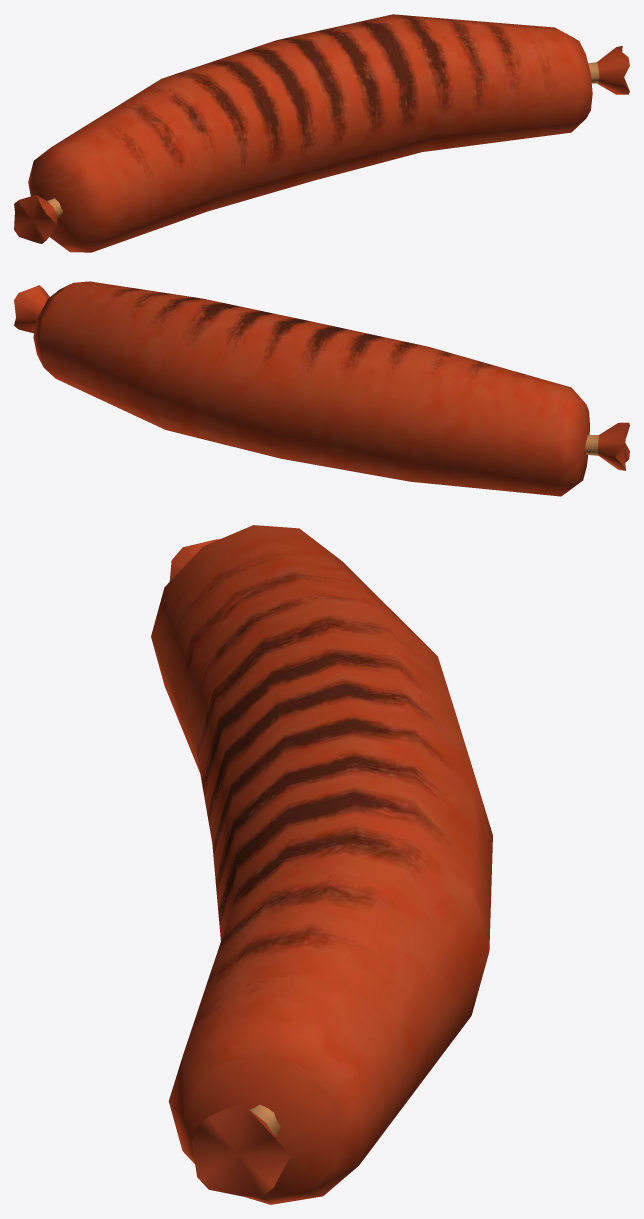
The model's file is sausage.glb.
3 views of the same model, one above another, from view 1: azimuth 30°, elevation 25°; view 2: azimuth 150°, elevation 25°; view 3: azimuth 270°, elevation 25° (orthographic). The views are drawn at different scales.
Parts seen in each view (by area): view 1: Sausage; view 2: Sausage; view 3: Sausage.
Boxes of the visible parts, <box> form: Sausage: <box>14,14,629,252</box>; Sausage: <box>14,281,629,496</box>; Sausage: <box>151,525,492,1204</box>.
Bounding box in the file's own units: 1.33 × 0.2718 × 0.3262.
Materials: 1 (1 with a texture image).
